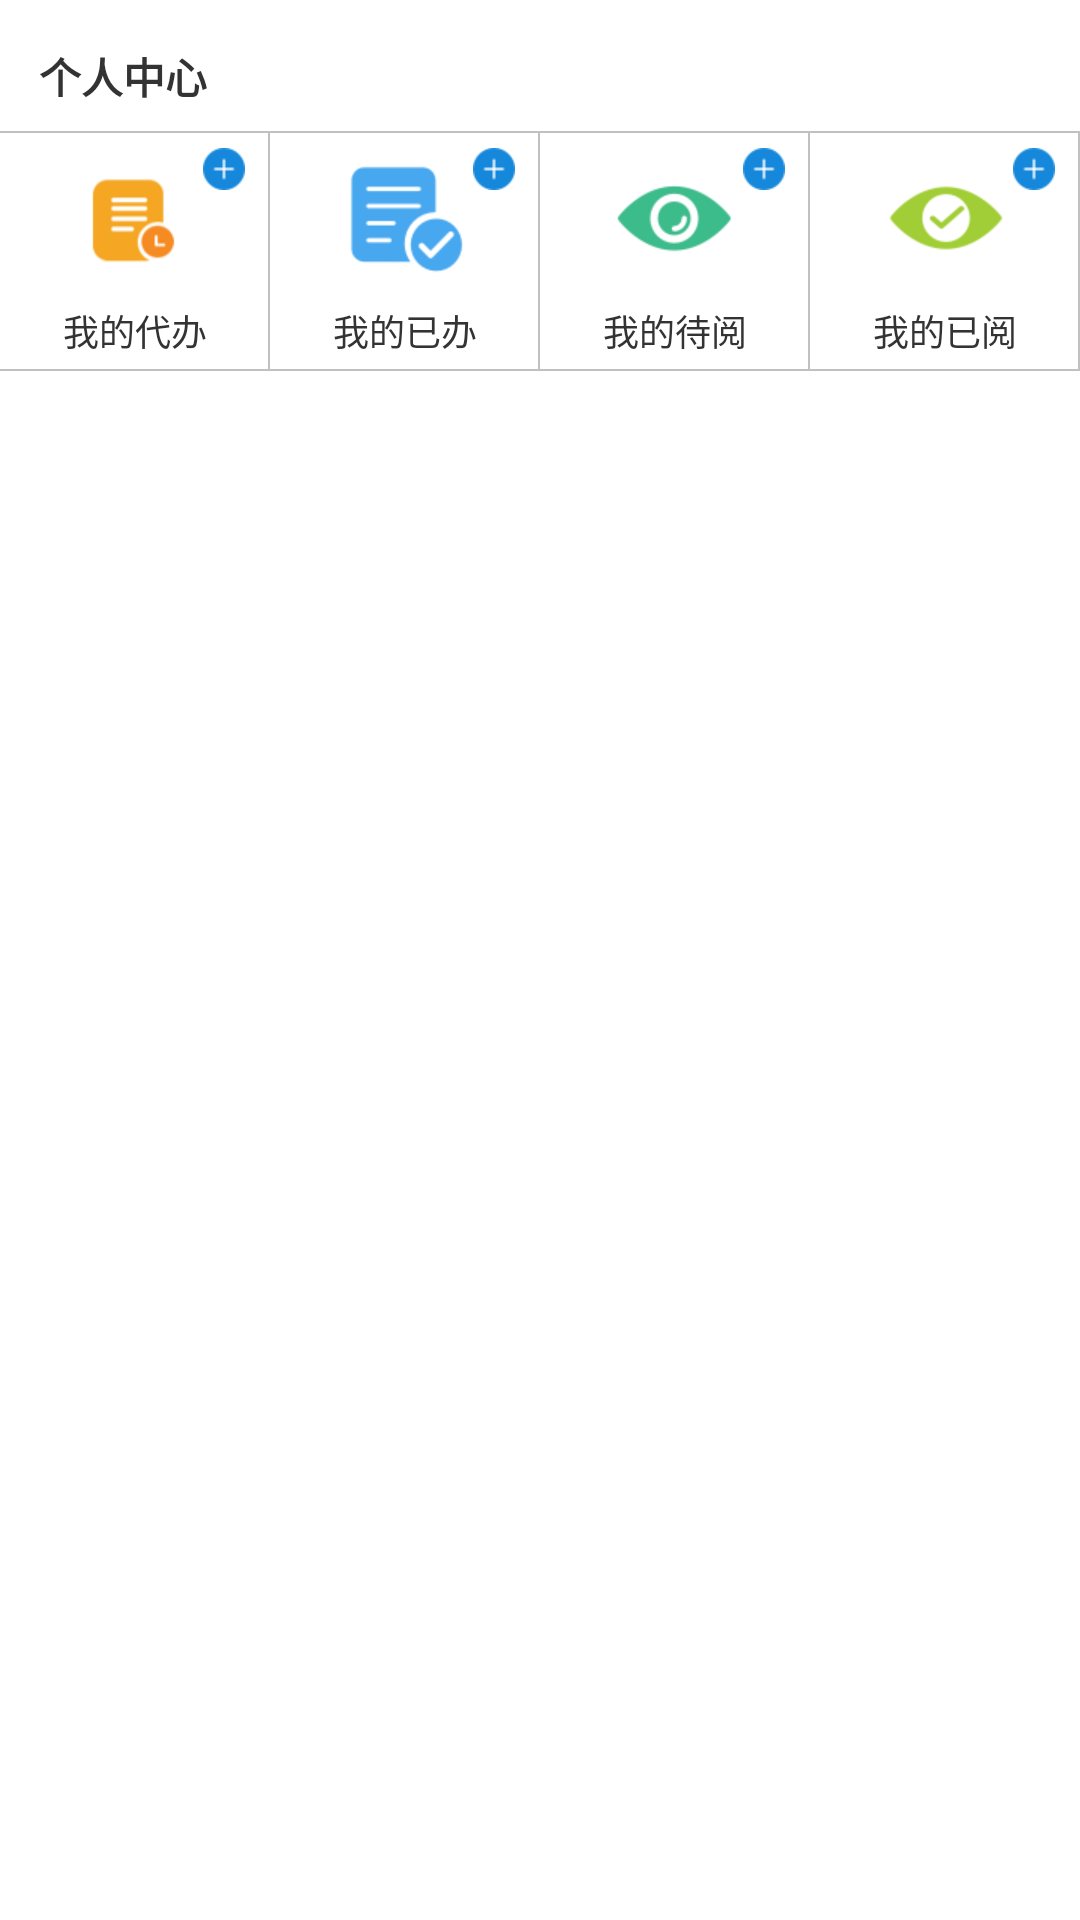

Screen size 1080 x 1920. Icon name, then its box in pixels as {"x1": x1, "y1": y1, "x2": x2, "y2": y2}:
home daiban: {"x1": 92, "y1": 179, "x2": 175, "y2": 262}
home daiyue: {"x1": 617, "y1": 186, "x2": 731, "y2": 251}
home jiahao: {"x1": 203, "y1": 148, "x2": 245, "y2": 190}, {"x1": 473, "y1": 148, "x2": 515, "y2": 190}, {"x1": 743, "y1": 148, "x2": 785, "y2": 190}, {"x1": 1013, "y1": 148, "x2": 1055, "y2": 190}
home yiban: {"x1": 351, "y1": 167, "x2": 463, "y2": 272}
home yiyue: {"x1": 889, "y1": 186, "x2": 1003, "y2": 250}
